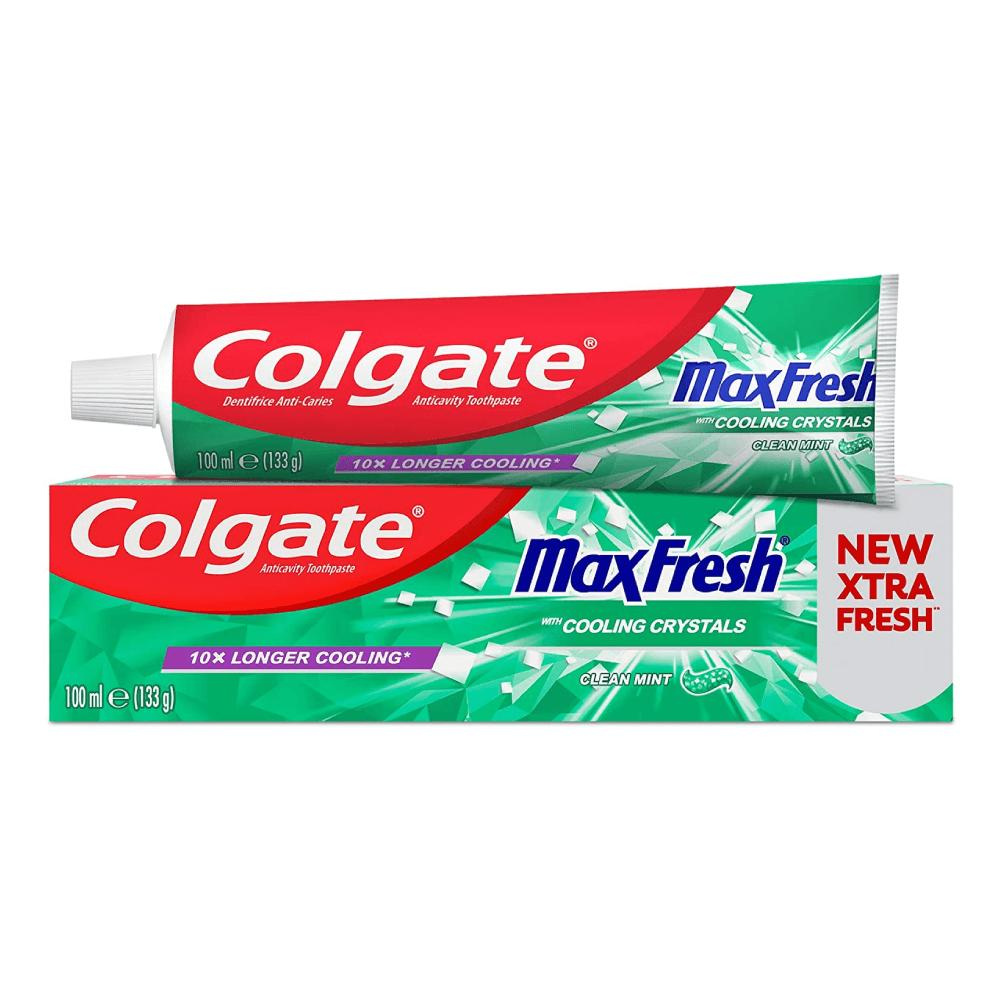Colgate: (48, 275, 955, 724)
